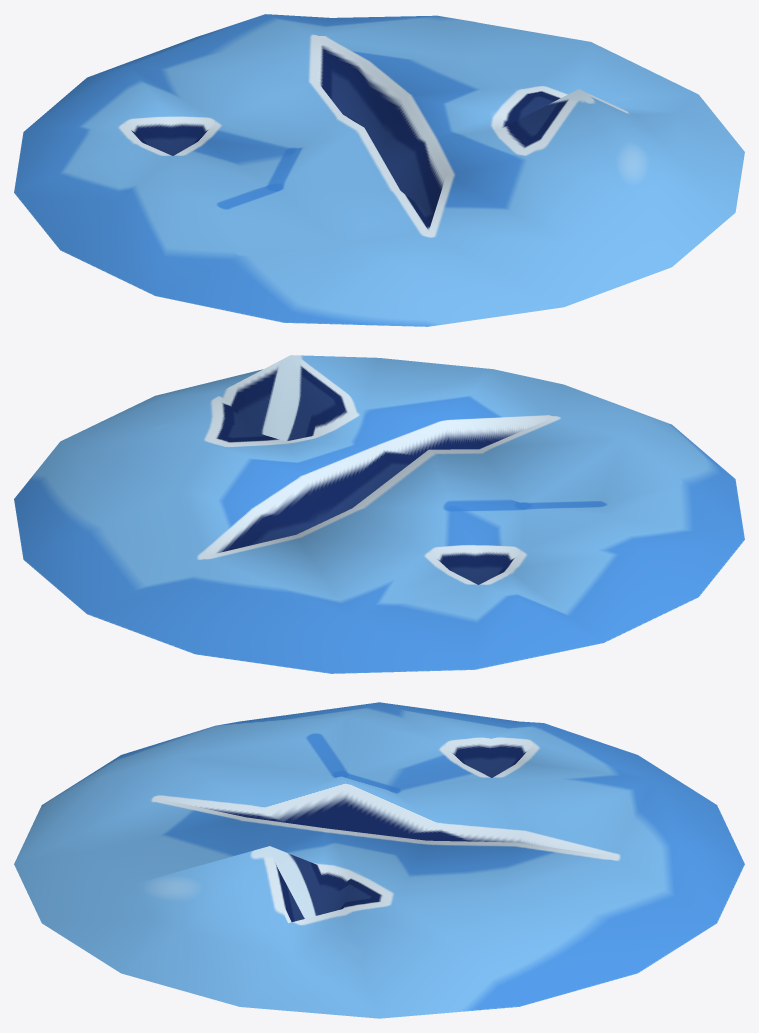
Rendered from Bubble_Popped_J.fbx.
3 renders of one model, top to bottom at view 1: azimuth 30°, elevation 25°; view 2: azimuth 150°, elevation 25°; view 3: azimuth 270°, elevation 25°, orthographic.
Parts seen in each view (by area): view 1: Bubble_Popped_J; view 2: Bubble_Popped_J; view 3: Bubble_Popped_J.
Part boxes in pixels (x1,y1,x2,y2): Bubble_Popped_J: (14, 14, 744, 326); Bubble_Popped_J: (14, 355, 744, 673); Bubble_Popped_J: (14, 702, 744, 1018).
Size of the model in its own units: 1.13 by 0.15 by 1.13.
Materials: 1 (1 with a texture image).
